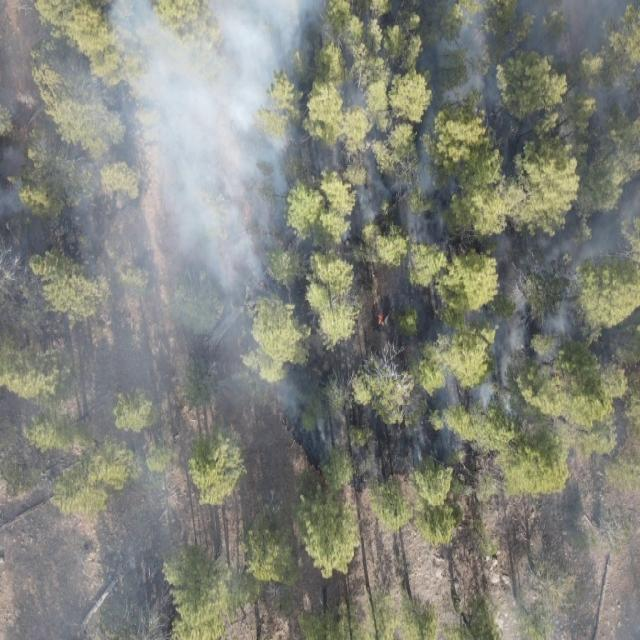fire: (255, 278, 268, 292), (376, 312, 385, 328), (286, 240, 294, 252)
smoke: (0, 0, 342, 640), (342, 0, 640, 481), (518, 480, 640, 640)
